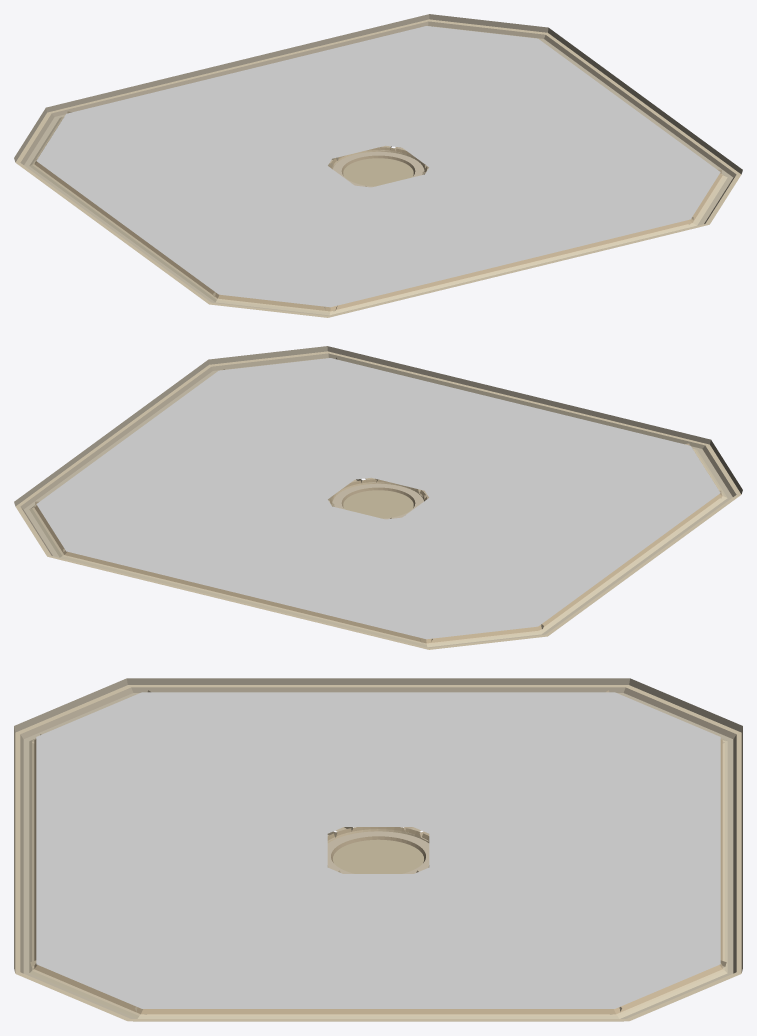
Rendered from ceiling.glb.
The picture shows the model from 3 angles, top to bottom: view 1: azimuth 30°, elevation 25°; view 2: azimuth 150°, elevation 25°; view 3: azimuth 270°, elevation 25°; orthographic projection. The views are drawn at different scales.
Parts seen in each view (by area): view 1: Surface; view 2: Surface; view 3: Surface.
Boxes of the visible parts, x1,y1,x2,y2 form: Surface: (14,14,742,317); Surface: (14,346,742,649); Surface: (14,678,742,1021).
Bounding box in the file's own units: 8.22 × 0.136 × 7.5.
